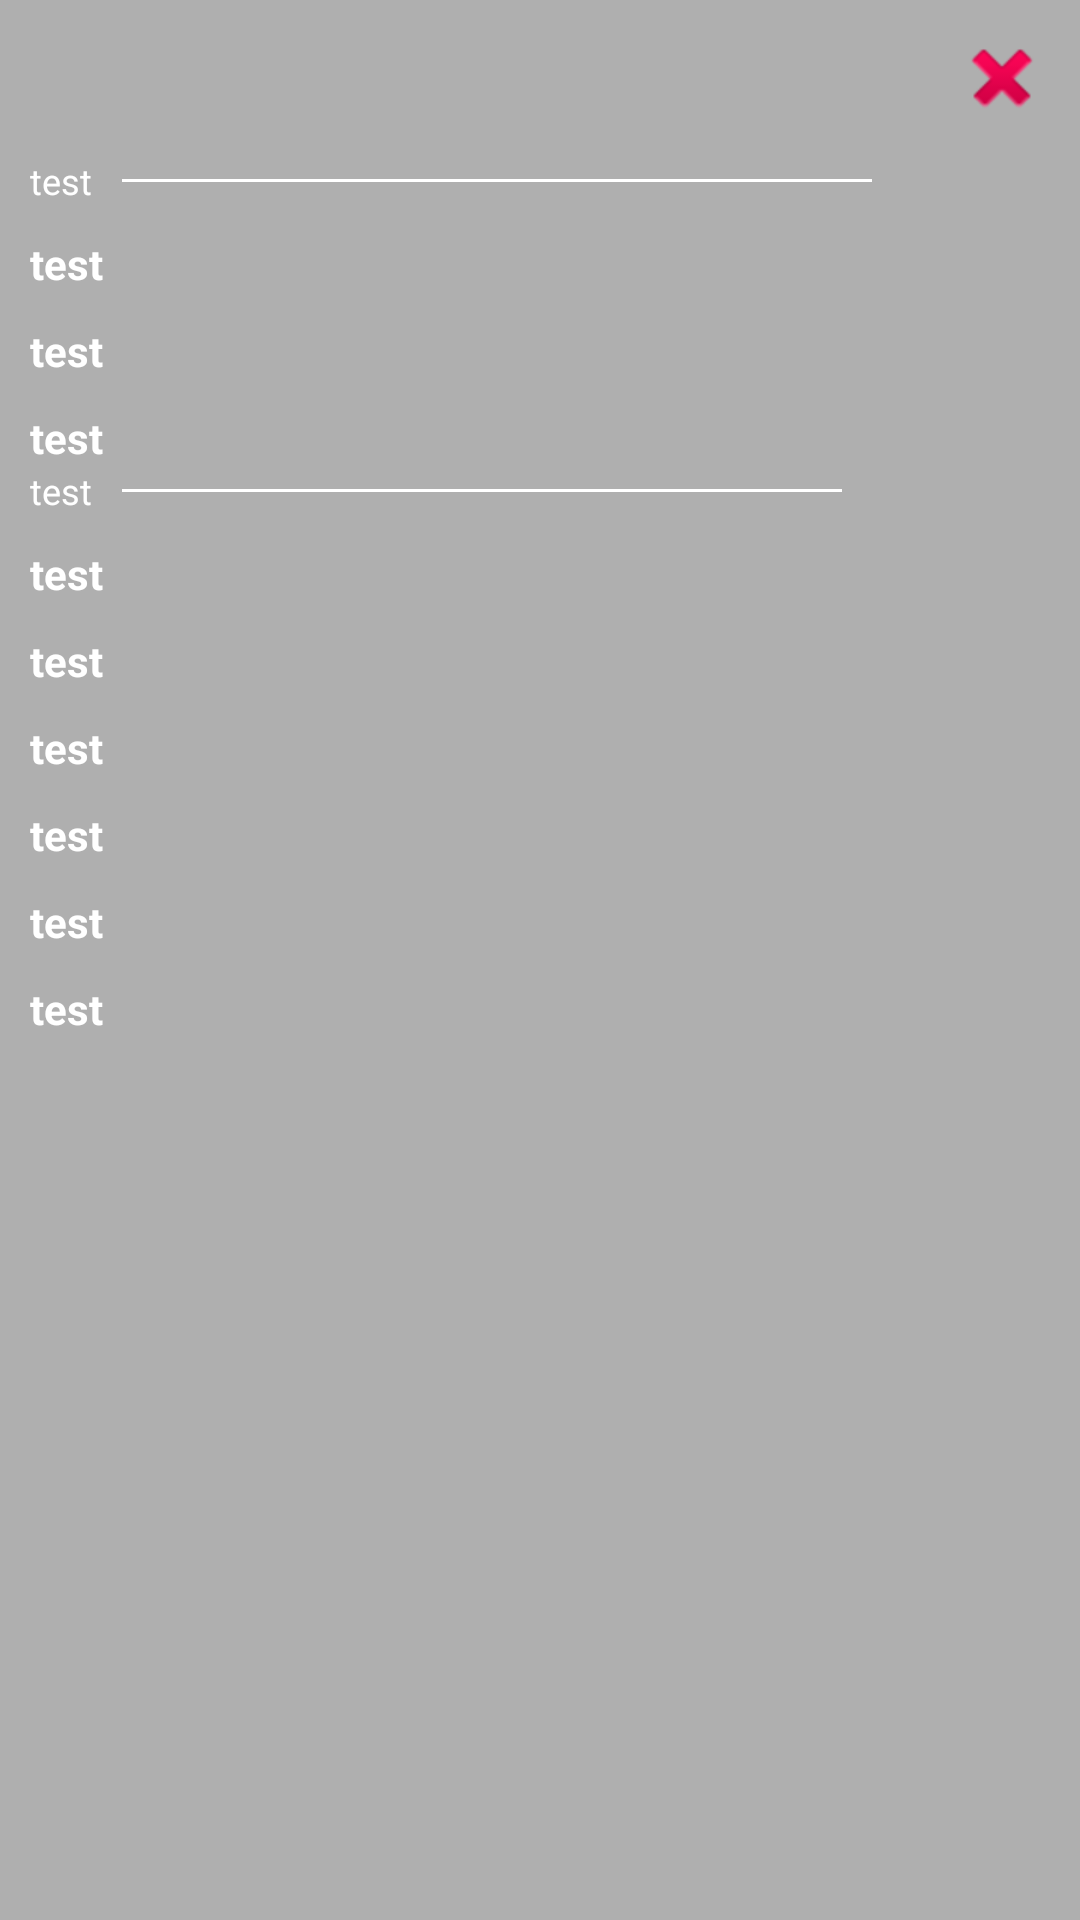

Screen size 1080w x 1920h. Icon name, then its center in pixels as point (x, y):
delete: point (1002, 78)
